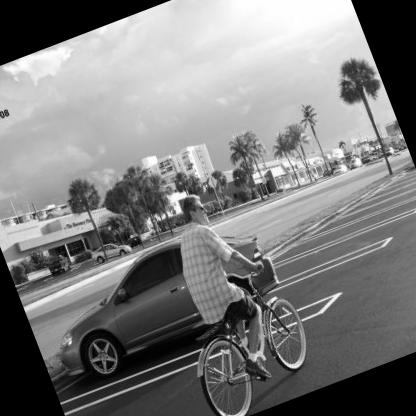car: (24, 202, 299, 399)
